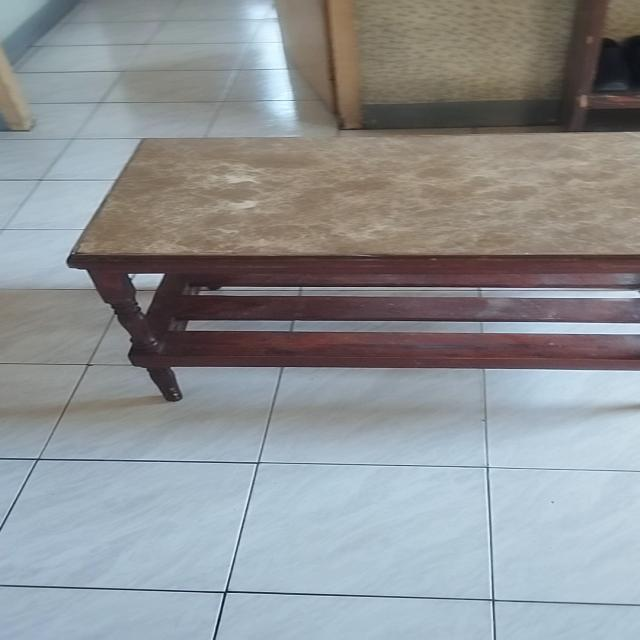table: (59, 131, 640, 407)
